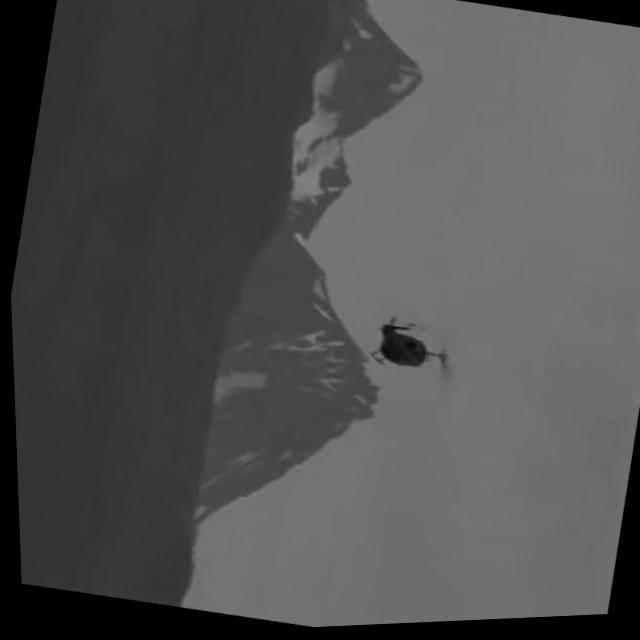helikopter: (339, 289, 479, 416)
